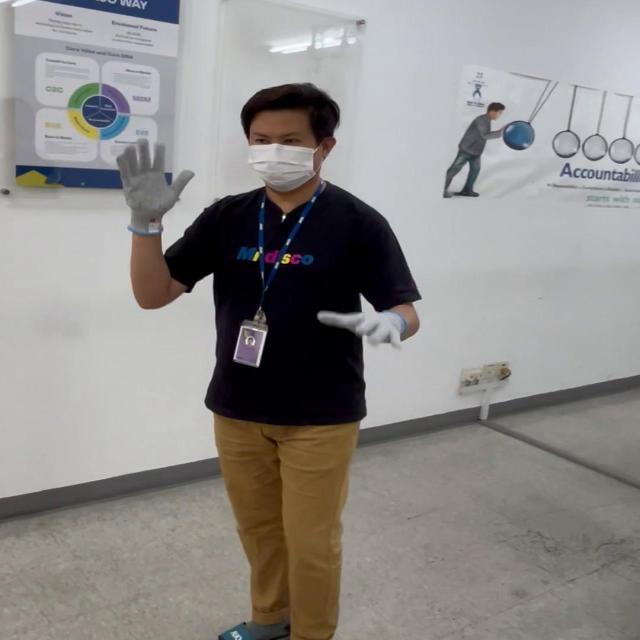gloved_hand: (121, 139, 203, 229), (327, 286, 413, 360)
